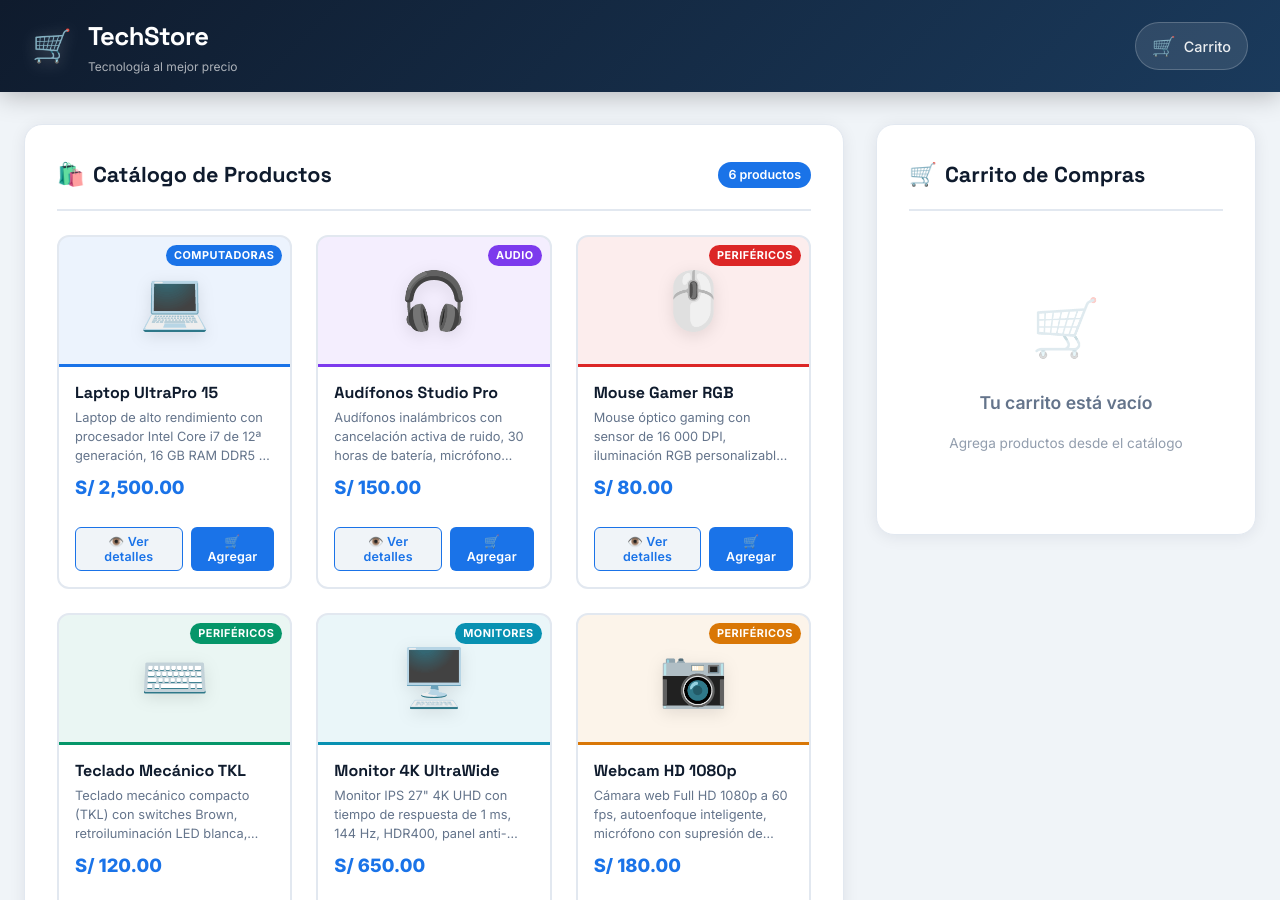
Prueba 9 — Ficha detallada muestra datos del producto seleccionado › al pulsar "Ver detalles" de la laptop, la ficha muestra su nombre y precio
Click the button "👁️ Ver detalles" below "S/ 2,500.00" at (129, 549), box x1=75 y1=527 x2=183 y2=571
(page scrolled)
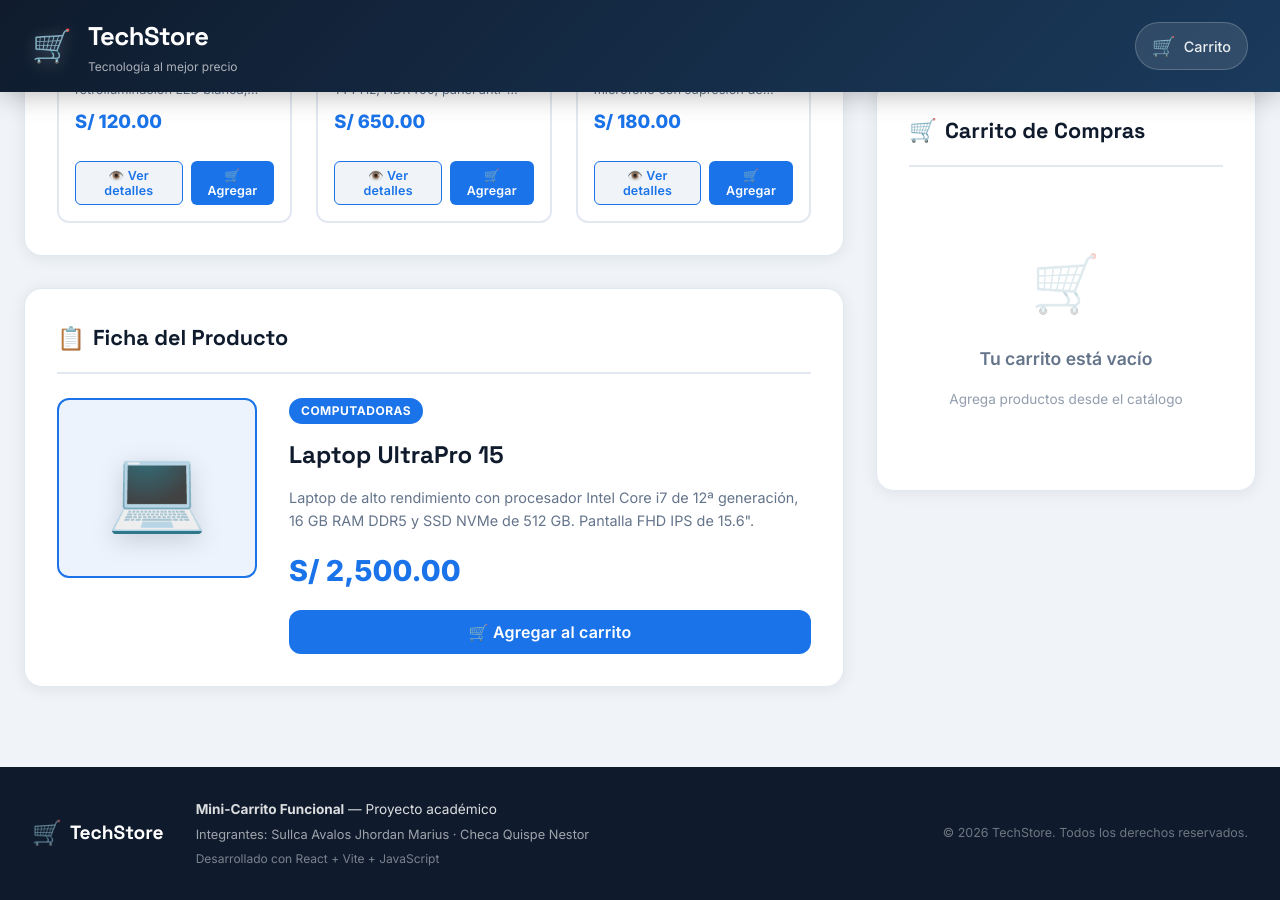
Check: the heading with test id "details-name" reads "Laptop UltraPro 15", box x1=289 y1=439 x2=504 y2=470
Check: the text with test id "details-price" shows "2", box x1=289 y1=553 x2=461 y2=588
